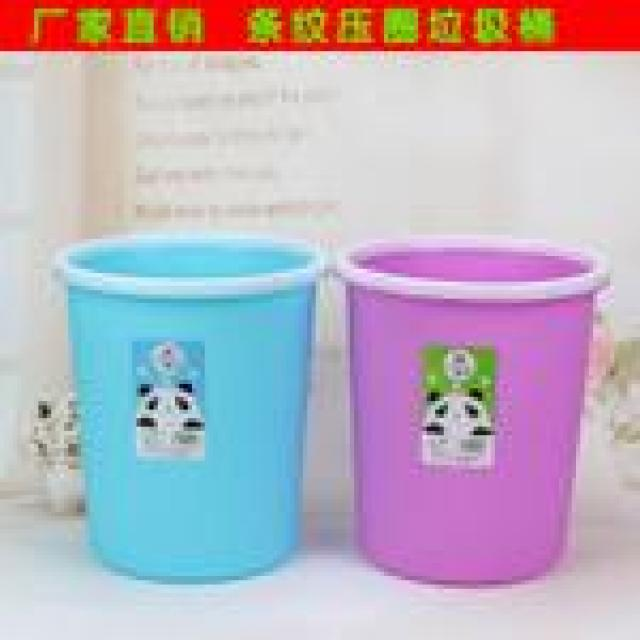Dustbin: (47, 227, 332, 588), (334, 228, 618, 590)
